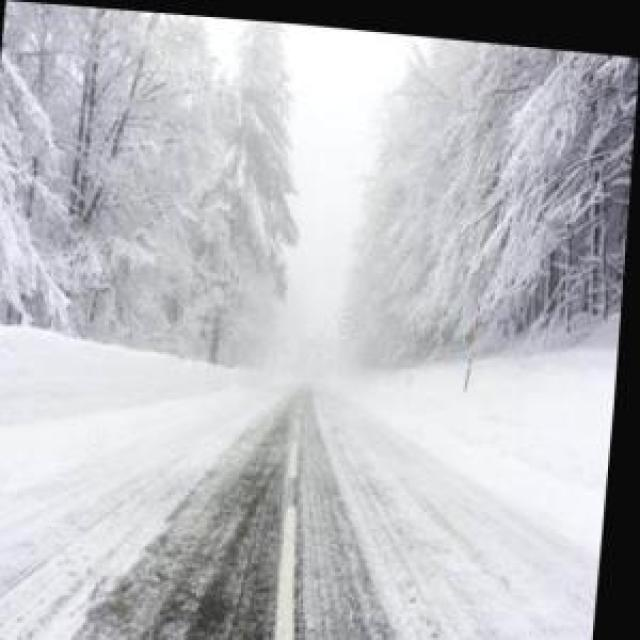ice-road: (0, 391, 598, 640)
